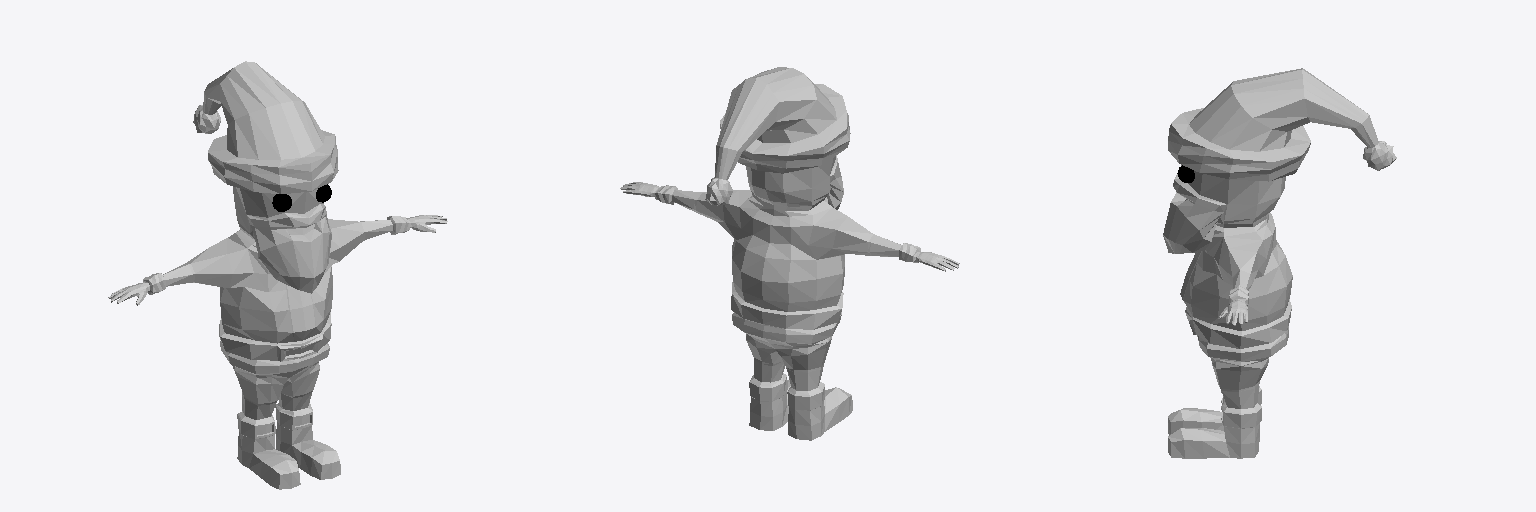
File: bettersanta_.obj
3 renders of one model, left to right at view 1: azimuth 30°, elevation 25°; view 2: azimuth 150°, elevation 25°; view 3: azimuth 270°, elevation 25°, orthographic.
Visible parts, largest first — view 1: Santa; view 2: Santa; view 3: Santa.
Boxes of the visible parts, x1=… form: Santa: x1=108, y1=61, x2=447, y2=489; Santa: x1=620, y1=67, x2=959, y2=440; Santa: x1=1163, y1=68, x2=1396, y2=458.
Size of the model in its own units: 2.1 by 2.23 by 1.27.